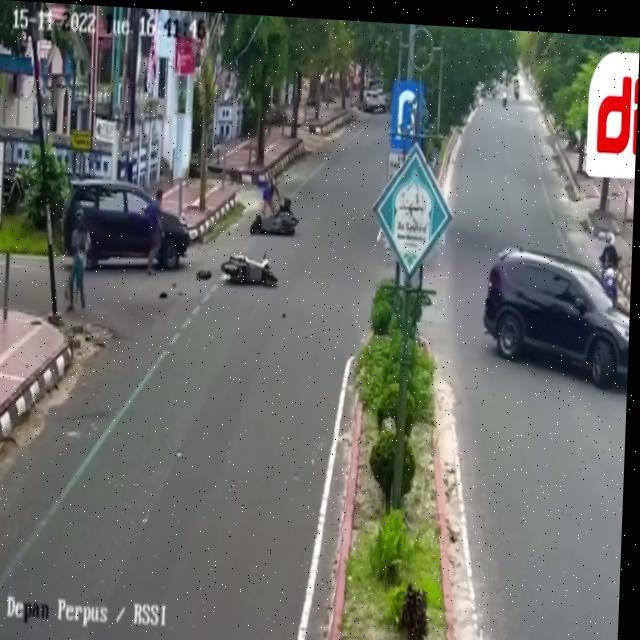multiple_accident: (480, 237, 630, 396), (209, 236, 325, 319), (197, 157, 308, 234)
